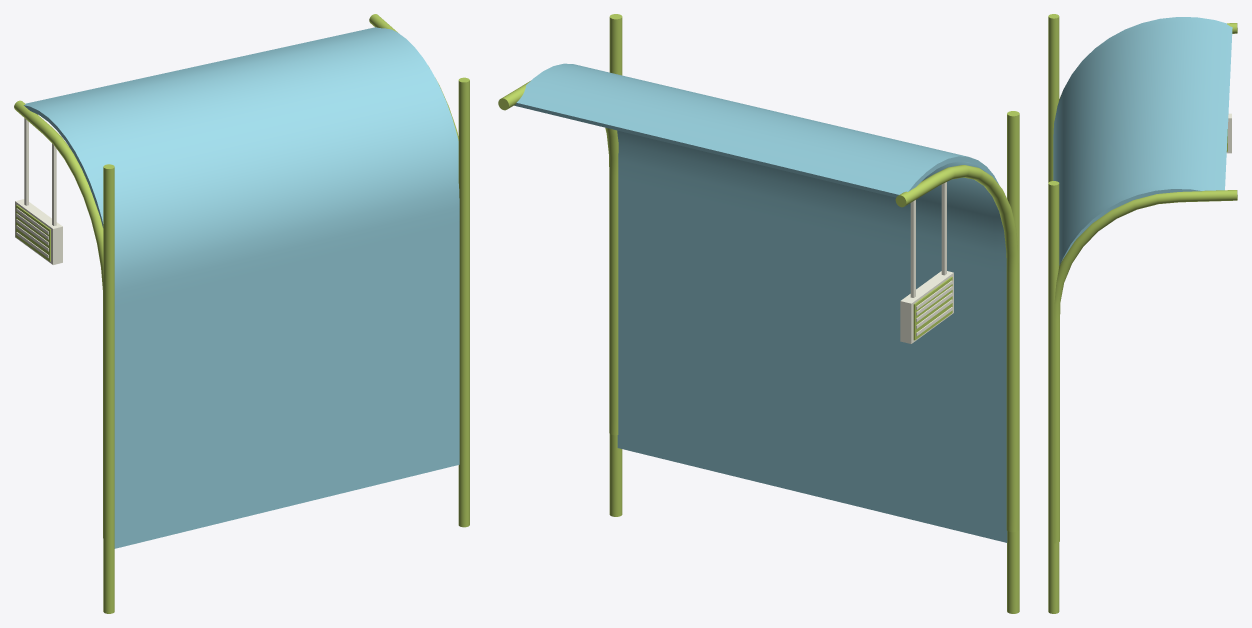
Rendered from props27.fbx.
3 views of the same model, side by side, from view 1: azimuth 30°, elevation 25°; view 2: azimuth 150°, elevation 25°; view 3: azimuth 270°, elevation 25° (orthographic). The views are drawn at different scales.
Parts seen in each view (by area): view 1: Cube_5; view 2: Cube_5; view 3: Cube_5.
Part boxes in pixels (x1,y1,x2,y2): Cube_5: (14,14,469,613); Cube_5: (498,14,1019,613); Cube_5: (1048,14,1237,613).
Size of the model in its own units: 228 by 263 by 105.
